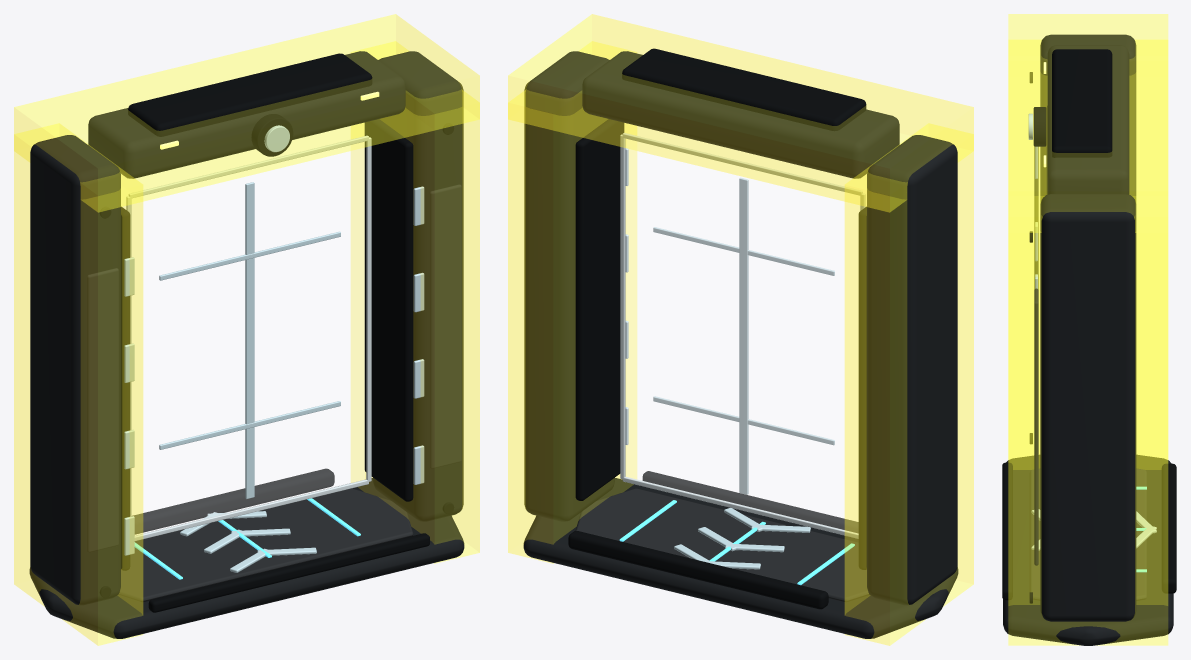
Rendered from ExtractionGate.fbx.
3 views of the same model, side by side, from view 1: azimuth 30°, elevation 25°; view 2: azimuth 150°, elevation 25°; view 3: azimuth 270°, elevation 25° (orthographic). The views are drawn at different scales.
Visible parts, largest first — view 1: LocatorMarkerProxy, ExtractionEnergyPlane_TransparentVerticalScanSheet, ExitPillar_Left_DarkGunmetal, ExitPillar_Right_InnerBlackRail, ExitBase_RecessedScanPlate_Charcoal, ExitPillar_Right_DarkGunmetal, ExitTop_StatusBridge_DarkGunmetal, ExitBase_LowHexPad_DarkGunmetal, ExitPillar_Right_OuterArmorPlate, ExitPillar_Left_OuterArmorPlate, ExitTop_BlackCap_ServiceHousing, ExitBase_FrontApproachLip_BlackMetal (+9 smaller); view 2: LocatorMarkerProxy, ExtractionEnergyPlane_TransparentVerticalScanSheet, ExitPillar_Left_DarkGunmetal, ExitPillar_Right_DarkGunmetal, ExitPillar_Right_InnerBlackRail, ExitTop_StatusBridge_DarkGunmetal, ExitBase_RecessedScanPlate_Charcoal, ExitBase_LowHexPad_DarkGunmetal, ExitTop_BlackCap_ServiceHousing, ExitBase_RearHardStop_BlackMetal, ExitPillar_Left_InnerBlackRail, FX_ExtractionPlane_MovingVerticalScanLine (+6 smaller); view 3: LocatorMarkerProxy, ExitPillar_Right_DarkGunmetal, ExitBase_LowHexPad_DarkGunmetal, ExitTop_BlackCap_ServiceHousing, ExitTop_StatusBridge_DarkGunmetal, ExitPillar_Left_DarkGunmetal, ExitBase_RecessedScanPlate_Charcoal, ExitBase_RearHardStop_BlackMetal, ExitBase_FrontApproachLip_BlackMetal, ExitPillar_Right_OuterArmorPlate, ExitScanner_TopEmitterHousing_BlackMetal, ExitPillar_Left_OuterArmorPlate.
Part boxes in pixels (x1=…): LocatorMarkerProxy: x1=14, y1=14, x2=479, y2=645; ExtractionEnergyPlane_TransparentVerticalScanSheet: x1=133, y1=142, x2=364, y2=535; ExitPillar_Left_DarkGunmetal: x1=30, y1=135, x2=120, y2=605; ExitPillar_Right_InnerBlackRail: x1=364, y1=119, x2=413, y2=501; ExitBase_RecessedScanPlate_Charcoal: x1=118, y1=488, x2=413, y2=602; ExitPillar_Right_DarkGunmetal: x1=373, y1=51, x2=463, y2=521; ExitTop_StatusBridge_DarkGunmetal: x1=88, y1=51, x2=405, y2=178; ExitBase_LowHexPad_DarkGunmetal: x1=29, y1=478, x2=464, y2=638; ExitPillar_Right_OuterArmorPlate: x1=429, y1=184, x2=461, y2=468; ExitPillar_Left_OuterArmorPlate: x1=86, y1=268, x2=118, y2=552; ExitTop_BlackCap_ServiceHousing: x1=128, y1=53, x2=372, y2=136; ExitBase_FrontApproachLip_BlackMetal: x1=148, y1=533, x2=429, y2=612; LocatorMarkerProxy: x1=508, y1=14, x2=973, y2=645; ExtractionEnergyPlane_TransparentVerticalScanSheet: x1=626, y1=139, x2=858, y2=533; ExitPillar_Left_DarkGunmetal: x1=867, y1=135, x2=957, y2=605; ExitPillar_Right_DarkGunmetal: x1=524, y1=51, x2=614, y2=521; ExitPillar_Right_InnerBlackRail: x1=575, y1=119, x2=624, y2=500; ExitTop_StatusBridge_DarkGunmetal: x1=582, y1=51, x2=899, y2=178; ExitBase_RecessedScanPlate_Charcoal: x1=575, y1=488, x2=869, y2=602; ExitBase_LowHexPad_DarkGunmetal: x1=523, y1=478, x2=958, y2=638; ExitTop_BlackCap_ServiceHousing: x1=622, y1=48, x2=866, y2=131; ExitBase_RearHardStop_BlackMetal: x1=568, y1=531, x2=828, y2=609; ExitPillar_Left_InnerBlackRail: x1=858, y1=206, x2=866, y2=569; FX_ExtractionPlane_MovingVerticalScanLine: x1=739, y1=177, x2=748, y2=494; LocatorMarkerProxy: x1=1008, y1=14, x2=1168, y2=645; ExitPillar_Right_DarkGunmetal: x1=1040, y1=194, x2=1136, y2=621; ExitBase_LowHexPad_DarkGunmetal: x1=1003, y1=454, x2=1173, y2=645; ExitTop_BlackCap_ServiceHousing: x1=1052, y1=49, x2=1112, y2=157; ExitTop_StatusBridge_DarkGunmetal: x1=1047, y1=45, x2=1129, y2=194; ExitPillar_Left_DarkGunmetal: x1=1040, y1=34, x2=1136, y2=202; ExitBase_RecessedScanPlate_Charcoal: x1=1029, y1=468, x2=1146, y2=600; ExitBase_RearHardStop_BlackMetal: x1=1161, y1=463, x2=1176, y2=593; ExitBase_FrontApproachLip_BlackMetal: x1=1002, y1=462, x2=1012, y2=600; ExitPillar_Right_OuterArmorPlate: x1=1034, y1=288, x2=1038, y2=565; ExitScanner_TopEmitterHousing_BlackMetal: x1=1033, y1=107, x2=1046, y2=146; ExitPillar_Left_OuterArmorPlate: x1=1034, y1=146, x2=1038, y2=289.
Size of the model in its own units: 2.46 by 2.85 by 0.9825.
